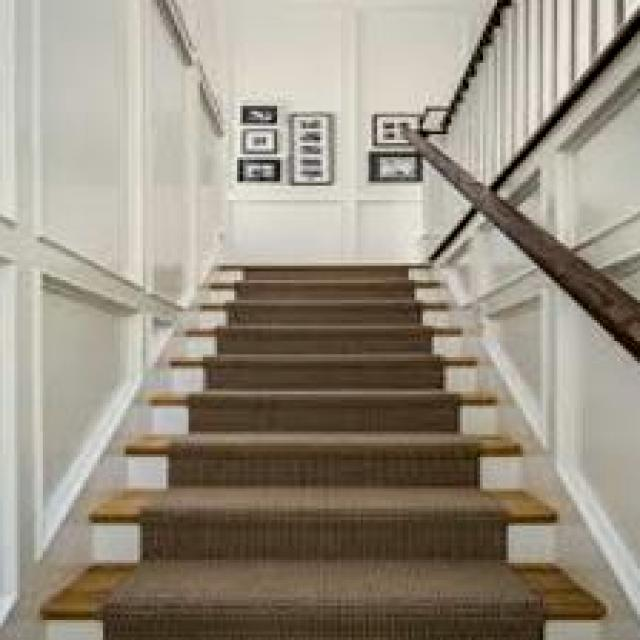upstair: (67, 404, 607, 640)
